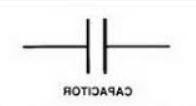Capacitor: (73, 14, 125, 78)
